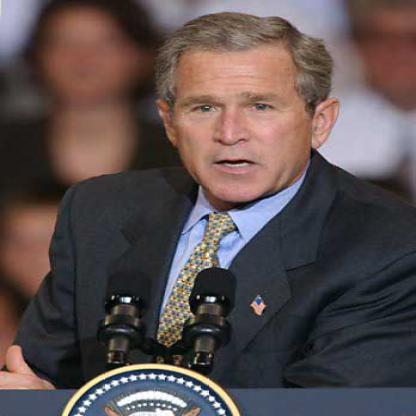face: (169, 20, 318, 203), (41, 1, 133, 107), (7, 198, 75, 299)
